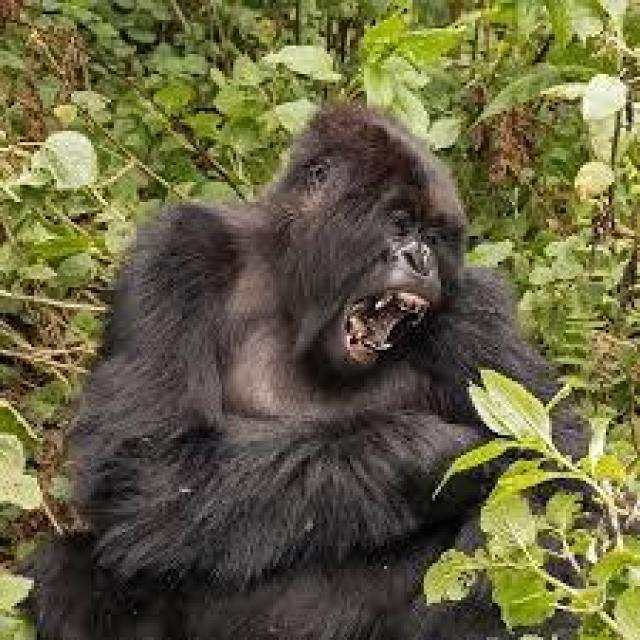Gorilla: (51, 62, 622, 640)
